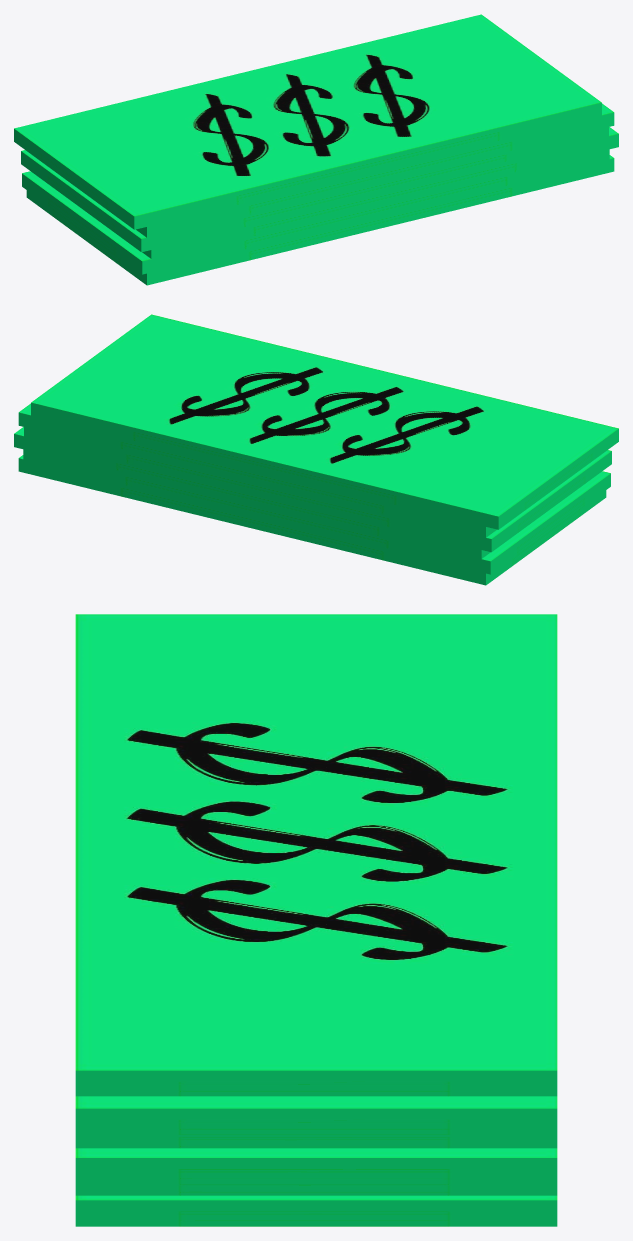
File: Money.fbx
3 views of the same model, one above another, from view 1: azimuth 30°, elevation 25°; view 2: azimuth 150°, elevation 25°; view 3: azimuth 270°, elevation 25° (orthographic). The views are drawn at different scales.
Visible parts, largest first — view 1: pCube7; view 2: pCube7; view 3: pCube7.
Part boxes in pixels (box(x1,y1,x2,y2)): pCube7: box(14, 14, 618, 285); pCube7: box(14, 314, 618, 585); pCube7: box(75, 614, 557, 1226).
Size of the model in its own units: 0.621 by 0.0881 by 0.2673.
Materials: 1 (1 with a texture image).
